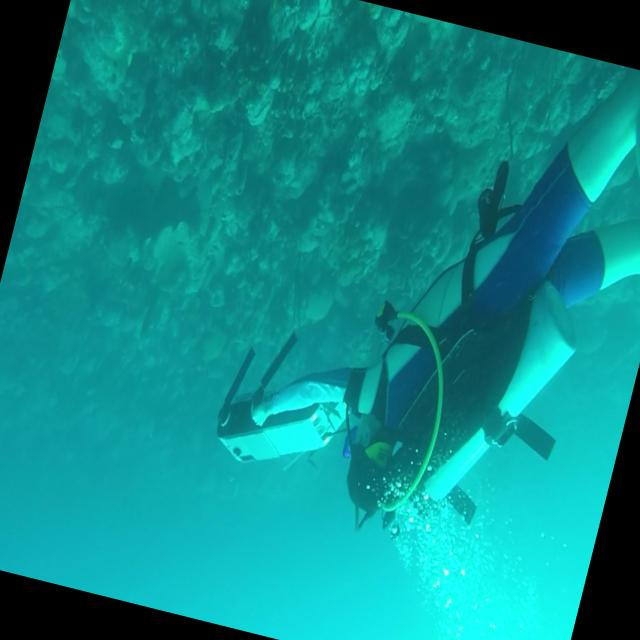human: (217, 0, 640, 579)
